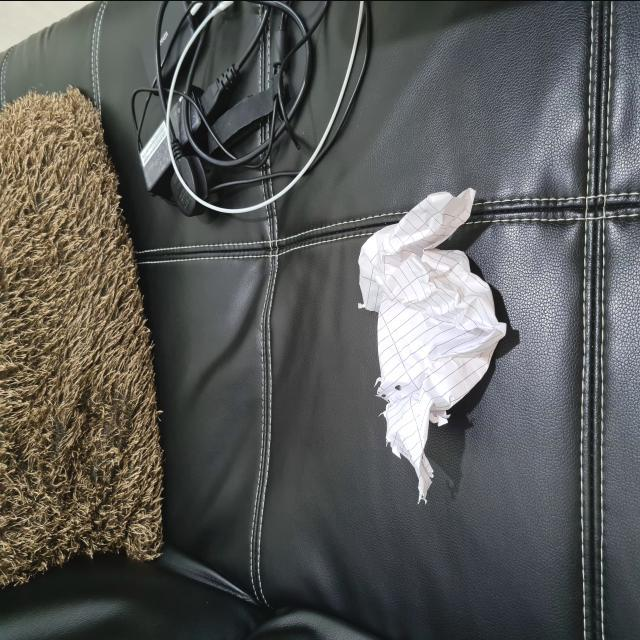Paper: (350, 196, 517, 507)
